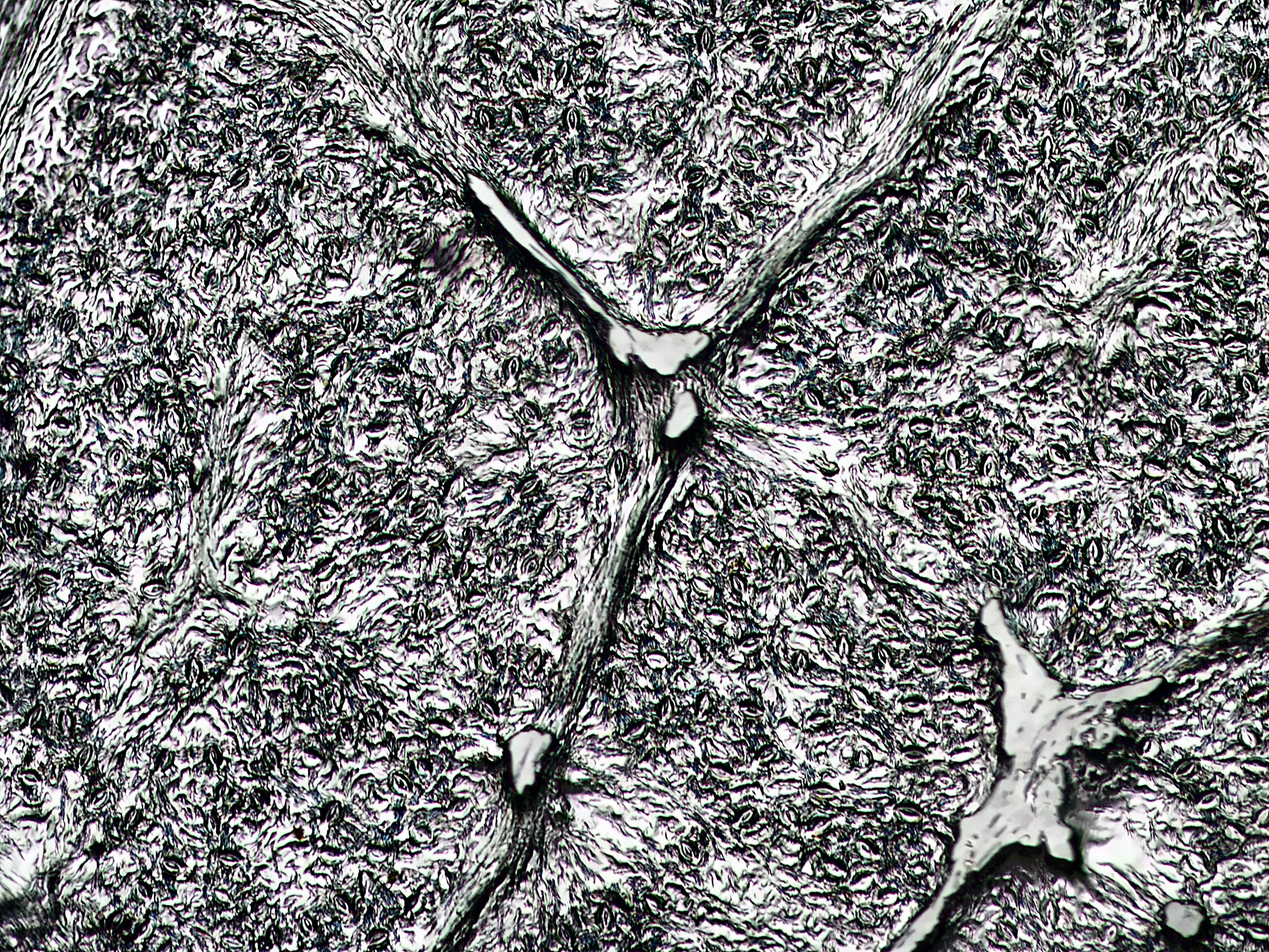stomata: (414, 433, 446, 463), (609, 450, 634, 487), (227, 634, 255, 664), (538, 503, 562, 536), (309, 556, 338, 583), (892, 801, 925, 824), (643, 595, 666, 627), (106, 443, 128, 475), (754, 739, 781, 764), (607, 665, 628, 697), (414, 386, 437, 415), (695, 25, 717, 55), (1058, 93, 1080, 123), (441, 475, 467, 500), (681, 835, 705, 862), (731, 807, 758, 831), (975, 307, 997, 336), (408, 824, 437, 846), (736, 701, 766, 722), (291, 623, 316, 648), (821, 855, 847, 879), (1135, 735, 1162, 758), (318, 799, 341, 826), (519, 552, 542, 579), (524, 646, 544, 677), (319, 103, 341, 131), (655, 693, 676, 722), (868, 268, 888, 298), (856, 837, 880, 862), (692, 494, 718, 517), (920, 248, 947, 270), (536, 320, 563, 342), (322, 236, 343, 264), (799, 0, 820, 28), (944, 299, 965, 327), (88, 246, 108, 275), (1171, 757, 1200, 777), (74, 743, 94, 772), (768, 121, 792, 145), (1212, 515, 1235, 540), (705, 239, 727, 265), (1192, 789, 1218, 811), (2, 356, 29, 377), (649, 233, 670, 260), (1222, 336, 1249, 357), (1002, 317, 1023, 344), (1217, 475, 1244, 496), (1241, 757, 1269, 777), (368, 533, 399, 551), (631, 1, 655, 24), (47, 473, 70, 497), (703, 736, 727, 759), (732, 487, 756, 510), (1163, 120, 1182, 149), (62, 601, 84, 626), (973, 83, 994, 109), (886, 362, 912, 383), (1240, 723, 1261, 749), (91, 564, 117, 585), (153, 748, 174, 774), (448, 797, 474, 818), (421, 526, 447, 547), (732, 145, 759, 165), (1164, 54, 1184, 81), (811, 782, 838, 802), (850, 871, 877, 891), (562, 106, 581, 134), (771, 72, 790, 100), (769, 324, 797, 343), (907, 417, 935, 436), (1207, 558, 1226, 586), (842, 311, 865, 334), (823, 77, 847, 99), (393, 328, 417, 350), (1112, 87, 1130, 116), (1166, 415, 1184, 444), (595, 902, 613, 931), (1007, 99, 1027, 125), (134, 919, 154, 945), (364, 928, 390, 948), (622, 722, 648, 742), (58, 310, 77, 337), (1071, 500, 1090, 527), (692, 690, 711, 717), (25, 303, 47, 326), (126, 320, 149, 342), (1066, 620, 1089, 642), (319, 497, 341, 520), (487, 550, 510, 572), (856, 904, 878, 927), (262, 228, 286, 249), (848, 40, 872, 61), (857, 4, 881, 25), (1191, 94, 1212, 118), (1083, 536, 1101, 564), (1041, 898, 1059, 926), (20, 456, 41, 480), (463, 590, 487, 611), (1054, 158, 1074, 183), (832, 248, 852, 273), (1089, 591, 1114, 611), (142, 580, 167, 600), (409, 499, 429, 524), (24, 704, 44, 729), (86, 787, 111, 807), (1240, 53, 1259, 79), (905, 284, 931, 303), (1209, 417, 1235, 436), (949, 684, 975, 703), (109, 373, 126, 402), (288, 375, 317, 392), (975, 130, 993, 157), (298, 683, 316, 710), (407, 183, 429, 205), (387, 481, 409, 503), (519, 476, 541, 498), (657, 138, 678, 161), (390, 771, 411, 794), (268, 145, 292, 165), (319, 160, 339, 184), (368, 218, 388, 242), (468, 14, 492, 34), (511, 3, 535, 23), (604, 130, 628, 150), (1017, 249, 1033, 279), (1003, 422, 1027, 442), (1169, 555, 1189, 579), (1245, 921, 1269, 941), (184, 657, 201, 685), (680, 217, 705, 236), (1238, 371, 1257, 396), (150, 454, 169, 479), (738, 634, 763, 653), (222, 219, 240, 245), (1121, 631, 1147, 649), (34, 568, 60, 586), (1148, 491, 1169, 513), (1153, 607, 1175, 628), (997, 919, 1018, 941), (106, 910, 127, 932), (849, 686, 870, 708), (203, 266, 223, 289), (533, 147, 556, 167), (552, 351, 575, 371), (40, 645, 63, 665), (801, 58, 818, 85), (249, 193, 268, 217), (476, 46, 500, 65), (908, 333, 932, 352), (1022, 365, 1041, 389), (267, 324, 286, 348), (729, 571, 748, 595), (555, 60, 573, 85), (754, 185, 779, 203), (1020, 208, 1038, 233), (334, 351, 352, 376), (502, 356, 520, 381), (478, 648, 496, 673), (686, 635, 704, 660), (914, 655, 939, 673), (267, 491, 283, 519), (900, 745, 928, 761), (1000, 170, 1026, 187), (27, 611, 53, 628), (206, 743, 223, 769), (366, 845, 392, 862), (643, 651, 669, 668), (1235, 300, 1256, 321), (1050, 549, 1071, 570), (689, 273, 711, 293), (517, 63, 536, 86), (1085, 179, 1108, 198), (1143, 458, 1166, 477), (1226, 821, 1249, 840), (773, 548, 787, 579), (982, 452, 998, 479), (448, 343, 466, 367), (211, 886, 235, 904), (265, 924, 283, 948), (428, 719, 452, 737), (575, 164, 592, 189), (1113, 136, 1130, 161), (946, 447, 963, 472), (959, 541, 984, 558), (394, 281, 419, 298), (917, 455, 937, 476), (216, 851, 246, 865), (219, 935, 247, 950), (477, 698, 498, 718), (801, 585, 822, 605), (142, 62, 161, 84), (657, 203, 679, 222), (684, 168, 706, 187), (804, 388, 823, 410), (431, 301, 450, 323), (508, 286, 524, 312), (704, 610, 730, 626), (584, 80, 607, 98), (734, 208, 752, 231), (953, 182, 971, 205), (838, 375, 856, 398), (57, 710, 75, 733), (580, 43, 604, 60), (977, 493, 994, 517), (315, 406, 339, 423), (339, 640, 363, 657), (454, 556, 471, 580), (361, 421, 388, 436), (1145, 369, 1161, 394), (327, 685, 343, 710), (283, 536, 299, 561), (230, 170, 249, 191), (296, 184, 317, 203), (1038, 44, 1059, 63), (1177, 242, 1198, 261), (1049, 445, 1070, 464), (522, 403, 541, 424), (919, 723, 940, 742), (52, 417, 74, 435), (1081, 213, 1099, 235), (957, 403, 979, 421), (1247, 683, 1269, 701), (95, 200, 112, 223), (145, 270, 168, 287), (1102, 26, 1125, 43), (969, 236, 986, 259), (453, 396, 470, 419), (337, 722, 354, 745), (692, 576, 715, 593), (875, 644, 892, 667), (877, 612, 900, 629), (377, 365, 403, 380), (23, 273, 47, 289), (18, 770, 42, 786), (215, 777, 231, 801), (902, 694, 926, 710), (750, 29, 769, 49), (1175, 317, 1194, 337), (291, 434, 311, 453), (303, 749, 323, 768), (1136, 75, 1157, 93), (924, 211, 945, 229), (851, 409, 878, 423), (103, 497, 121, 518), (310, 467, 328, 488), (645, 894, 663, 915), (1092, 436, 1107, 461), (148, 364, 170, 381), (376, 177, 393, 199), (694, 78, 711, 100), (815, 344, 837, 361), (890, 444, 907, 466), (854, 747, 871, 769), (654, 104, 670, 127), (1207, 35, 1223, 58), (136, 878, 152, 901), (557, 923, 573, 946), (813, 536, 836, 552), (414, 600, 428, 626), (179, 25, 198, 44), (1191, 387, 1210, 406), (1016, 70, 1036, 88), (1217, 268, 1241, 283), (86, 639, 106, 657), (702, 537, 720, 557), (937, 625, 961, 640), (874, 222, 891, 243), (1011, 553, 1028, 574), (488, 324, 505, 345), (122, 808, 139, 829), (914, 494, 936, 510), (989, 564, 1005, 586), (355, 470, 371, 492), (263, 746, 279, 768), (793, 650, 809, 672), (838, 634, 851, 661), (511, 103, 526, 126), (1028, 500, 1043, 523), (296, 332, 311, 355), (211, 315, 226, 338), (185, 429, 200, 452), (162, 858, 185, 873), (240, 93, 258, 112), (463, 523, 482, 541), (106, 68, 123, 88), (1188, 455, 1208, 472), (300, 914, 317, 934), (806, 710, 832, 723), (734, 92, 755, 108), (366, 710, 380, 734), (177, 132, 195, 150), (1194, 293, 1212, 311), (1163, 356, 1181, 374), (946, 510, 964, 528), (58, 366, 77, 383), (1151, 0, 1168, 19), (17, 515, 31, 538), (124, 124, 140, 144), (224, 126, 239, 147), (1254, 807, 1269, 828), (346, 311, 360, 333), (70, 175, 87, 193), (790, 289, 808, 306), (289, 78, 308, 94), (1039, 136, 1055, 155), (1224, 168, 1243, 184), (135, 13, 150, 33), (152, 141, 167, 161), (478, 107, 491, 130), (1102, 923, 1116, 944), (0, 587, 14, 608), (186, 84, 203, 101), (782, 805, 798, 823), (95, 125, 108, 147), (1254, 97, 1269, 116), (334, 894, 349, 913), (189, 212, 203, 232), (167, 407, 180, 428), (16, 197, 33, 213), (1259, 352, 1269, 378), (235, 41, 251, 57), (1059, 6, 1075, 22), (77, 101, 91, 119), (58, 215, 72, 233), (194, 174, 215, 185), (1257, 202, 1269, 218)
